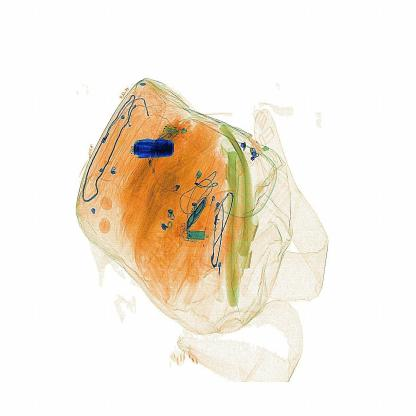scissors: (129, 132, 188, 170)
